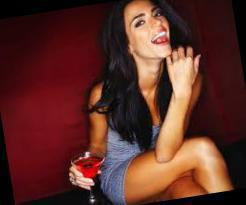Drunk: (126, 1, 173, 58)
